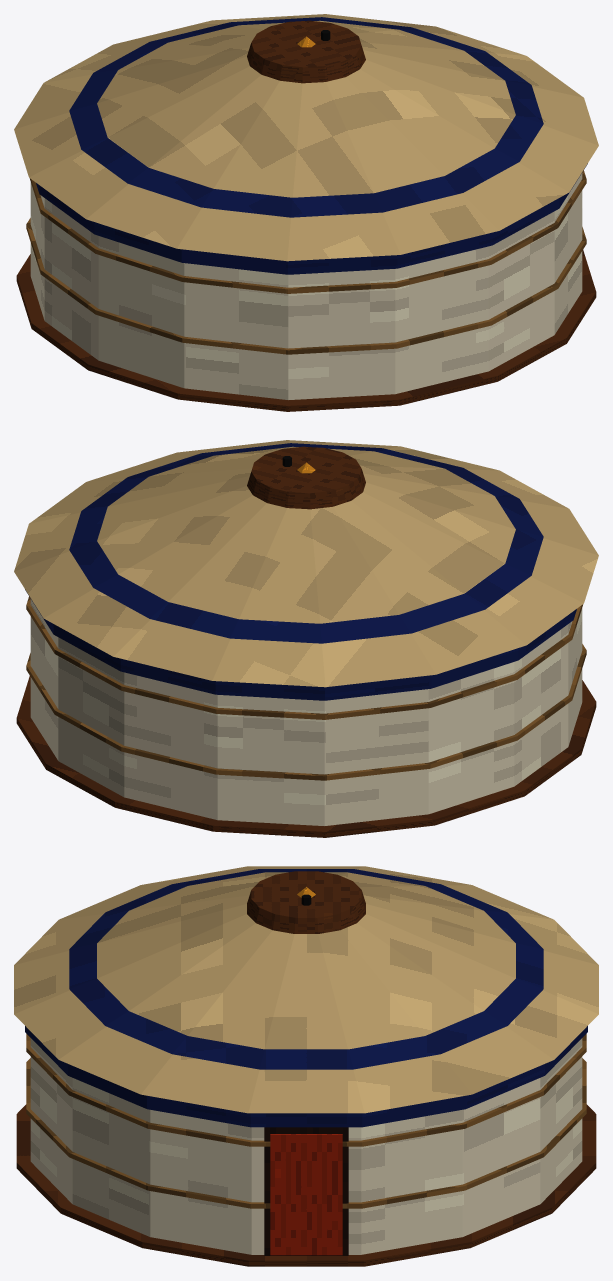
Rendered from yurta_jefe.glb.
3 renders of one model, top to bottom at view 1: azimuth 30°, elevation 25°; view 2: azimuth 150°, elevation 25°; view 3: azimuth 270°, elevation 25°, orthographic.
Visible parts, largest first — view 1: techo, pared, banda, plataforma, cuerdas, corona; view 2: techo, pared, banda, plataforma, cuerdas, corona; view 3: techo, pared, banda, plataforma, puerta, cuerdas, corona, marco.
Boxes of the visible parts, x1,y1,x2,y2 form: techo: [14, 14, 598, 261]; pared: [30, 173, 582, 399]; banda: [36, 17, 587, 274]; plataforma: [16, 250, 596, 411]; cuerdas: [26, 170, 586, 354]; corona: [247, 20, 365, 83]; techo: [14, 440, 598, 687]; pared: [30, 599, 582, 825]; banda: [25, 443, 576, 700]; plataforma: [16, 676, 596, 837]; cuerdas: [26, 596, 586, 780]; corona: [247, 446, 365, 509]; techo: [14, 866, 598, 1113]; pared: [30, 1038, 582, 1254]; banda: [25, 869, 587, 1127]; plataforma: [16, 1104, 596, 1266]; puerta: [270, 1134, 342, 1255]; cuerdas: [26, 1034, 586, 1208]; corona: [247, 871, 365, 933]; marco: [264, 1127, 348, 1255].
Size of the model in its own units: 7 by 3.4 by 7.
1 material, 1 textured.
